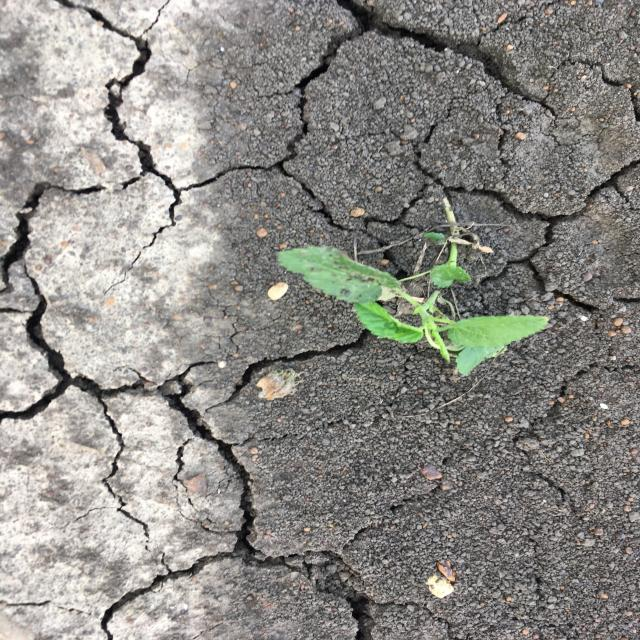PricklySida: (272, 194, 556, 380)
